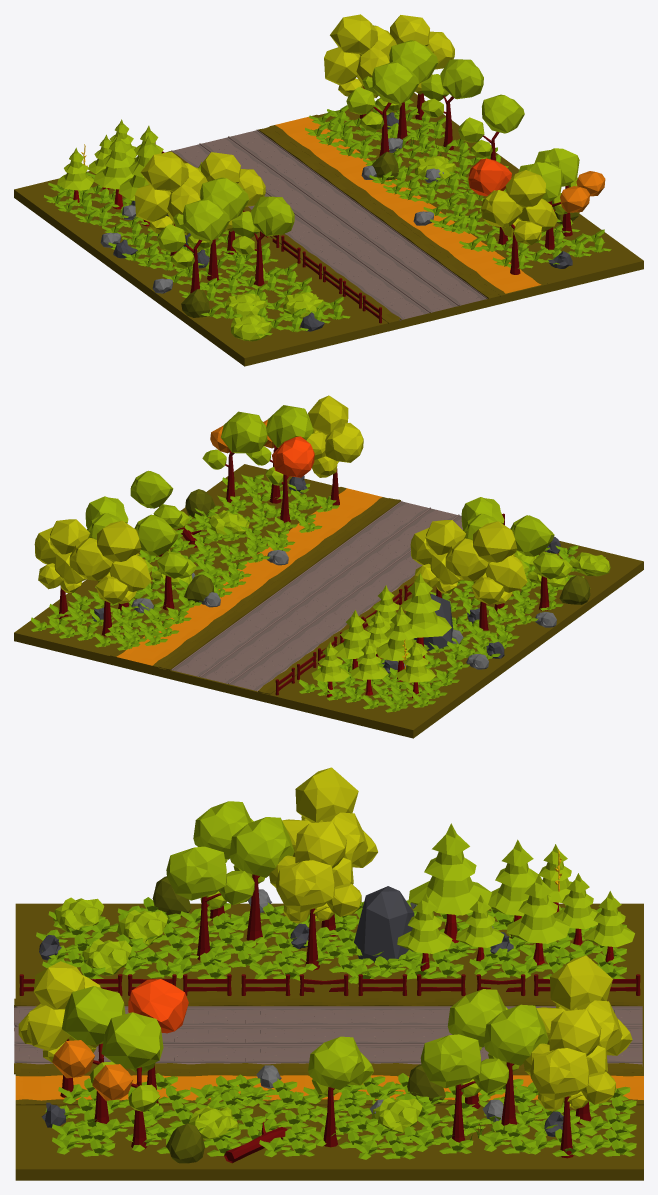
File: Forest Area 5.fbx
3 renders of one model, top to bottom at view 1: azimuth 30°, elevation 25°; view 2: azimuth 150°, elevation 25°; view 3: azimuth 270°, elevation 25°, orthographic. The views are drawn at different scales.
Visible parts, largest first — view 1: SM_Env_Path_Straight_01.1603, Plane.005, Tree3.010, Tree3.011, Tree3.007, Tree1.015, Tree1.022, Tree1.024, Tree1.017, Tree1.021, Tree1.023, Tree1.016 (+15 smaller); view 2: SM_Env_Path_Straight_01.1603, Plane.005, Tree3.007, Tree3.011, Tree3.010, Tree3.008, Tree3.012, Tree1.018, Tree1.015, Tree1.022, Tree1.019, Tree1.020 (+20 smaller); view 3: Plane.005, SM_Env_Path_Straight_01.1603, Tree3.008, Tree3.012, Tree1.018, WoodFence1.002, Tree3.007, Tree3.011, Tree1.019, Tree1.024, Tree1.017, Tree2.014 (+24 smaller).
Part boxes in pixels (<box>): SM_Env_Path_Straight_01.1603: <box>165,114,547,323</box>; Plane.005: <box>14,92,643,366</box>; Tree3.010: <box>481,170,557,274</box>; Tree3.011: <box>134,151,207,265</box>; Tree3.007: <box>324,14,396,127</box>; Tree1.015: <box>346,62,419,156</box>; Tree1.022: <box>157,199,229,293</box>; Tree1.024: <box>232,196,294,286</box>; Tree1.017: <box>421,59,483,150</box>; Tree1.021: <box>458,94,524,160</box>; Tree1.023: <box>173,177,248,280</box>; Tree1.016: <box>362,40,438,143</box>; SM_Env_Path_Straight_01.1603: <box>110,487,462,694</box>; Plane.005: <box>14,464,643,738</box>; Tree3.007: <box>69,520,151,636</box>; Tree3.011: <box>445,521,527,630</box>; Tree3.010: <box>306,395,363,505</box>; Tree3.008: <box>34,519,90,618</box>; Tree3.012: <box>410,520,465,597</box>; Tree1.018: <box>202,411,267,505</box>; Tree1.015: <box>134,514,196,610</box>; Tree1.022: <box>510,515,572,610</box>; Tree1.019: <box>246,405,313,503</box>; Tree1.020: <box>265,436,314,522</box>; Plane.005: <box>15,903,643,1180</box>; SM_Env_Path_Straight_01.1603: <box>14,998,643,1105</box>; Tree3.008: <box>523,1009,615,1158</box>; Tree3.012: <box>269,821,361,970</box>; Tree1.018: <box>92,1012,163,1148</box>; WoodFence1.002: <box>19,974,640,995</box>; Tree3.007: <box>536,955,632,1124</box>; Tree3.011: <box>282,767,377,936</box>; Tree1.019: <box>52,986,125,1123</box>; Tree1.024: <box>166,846,254,960</box>; Tree1.017: <box>420,1034,508,1142</box>; Tree2.014: <box>408,823,491,943</box>.
Size of what is drawn, in the model's own units: 10263 by 2889 by 10028.
